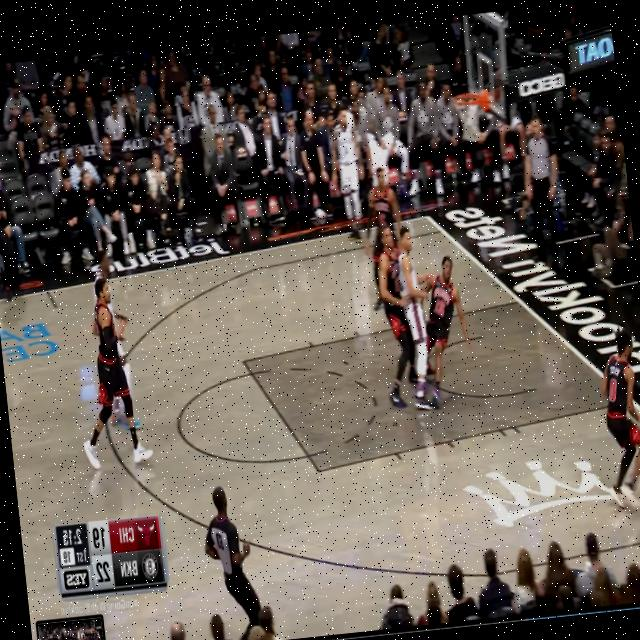foul: (353, 205, 530, 424)
no foul: (35, 228, 198, 496)
